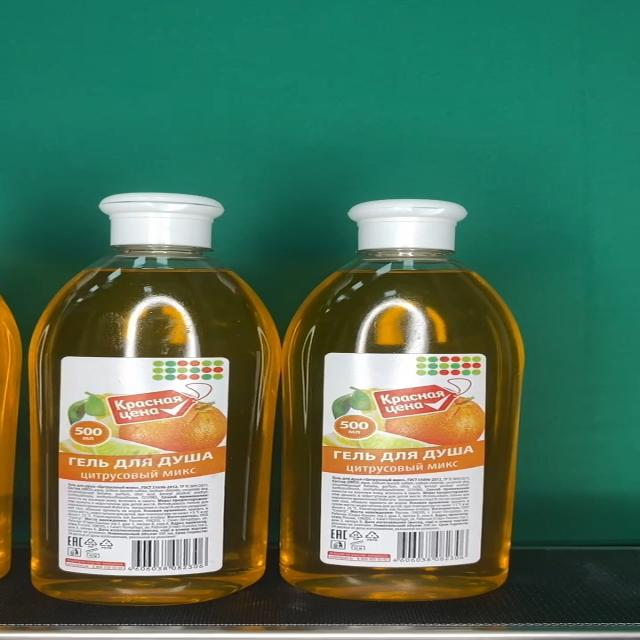Bottle: (31, 190, 283, 605), (281, 199, 527, 600)
Cap: (99, 190, 223, 247), (346, 199, 468, 251)
